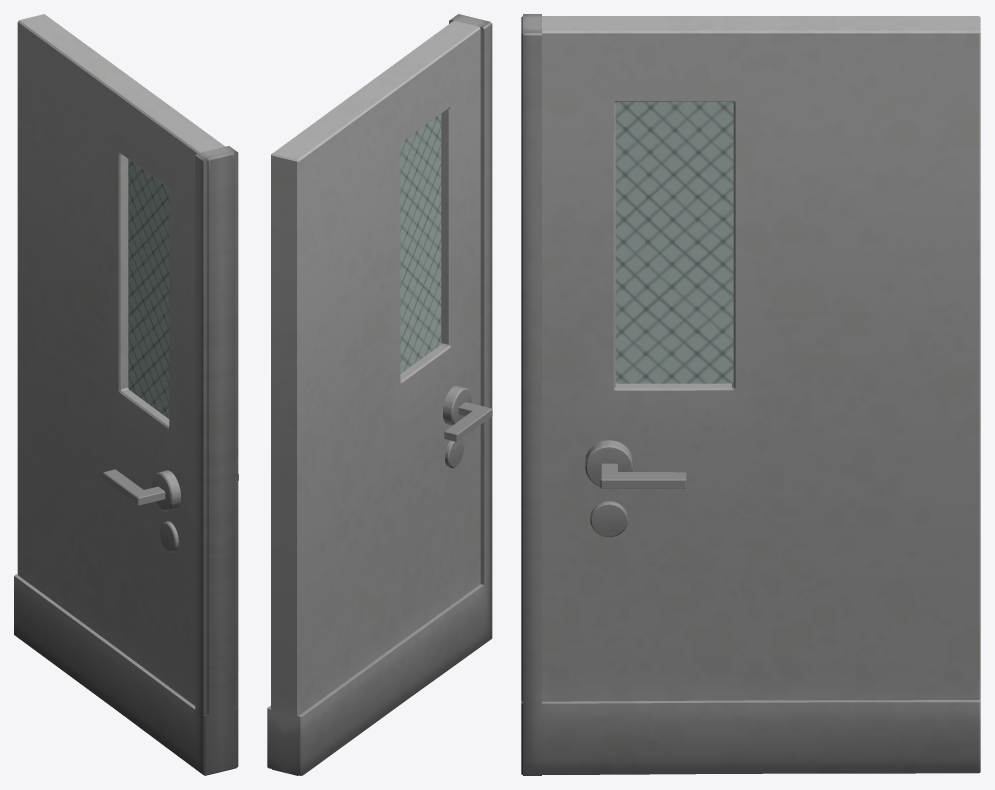
Rendered from Digdig door with handle.fbx.
The picture shows the model from 3 angles, left to right: view 1: azimuth 30°, elevation 25°; view 2: azimuth 150°, elevation 25°; view 3: azimuth 270°, elevation 25°; orthographic projection. The views are drawn at different scales.
Visible parts, largest first — view 1: polySurface69; view 2: polySurface69; view 3: polySurface69.
Boxes of the visible parts, bbox=[...] form: polySurface69: bbox=[14, 14, 238, 775]; polySurface69: bbox=[267, 14, 492, 775]; polySurface69: bbox=[521, 14, 980, 775].
Bounding box in the file's own units: 0.1172 × 0.6831 × 0.3828.
